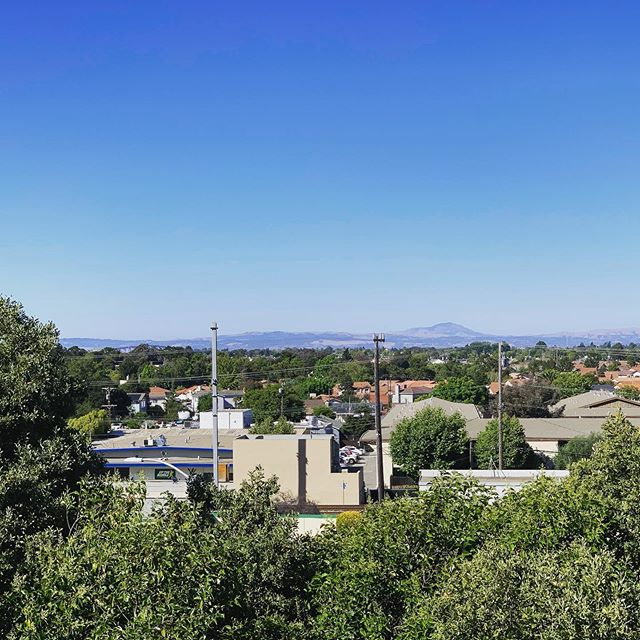building: (386, 401, 585, 486), (99, 421, 239, 504), (240, 422, 359, 516)
sky: (14, 1, 640, 326)
tree: (386, 405, 472, 485), (472, 409, 536, 476)
vegetation: (1, 456, 640, 640)
